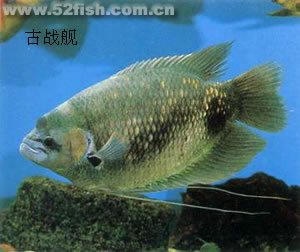fish: (12, 32, 299, 199)
